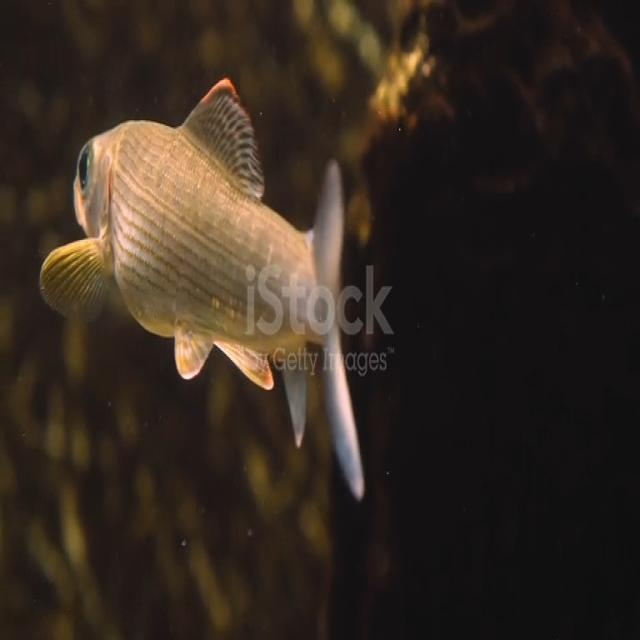fish: (38, 71, 371, 506)
